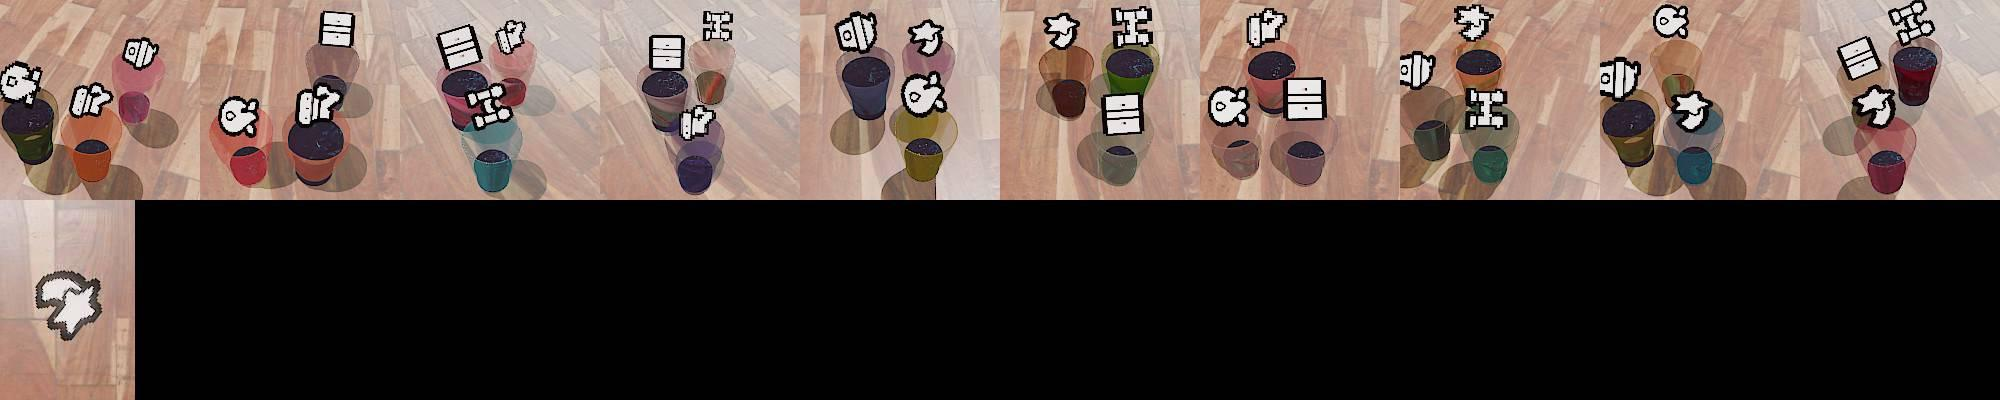icon: (33, 270, 103, 341), (462, 79, 514, 129), (436, 22, 483, 71), (899, 70, 948, 117), (1463, 85, 1511, 130), (295, 82, 343, 126), (1101, 92, 1148, 136), (1597, 56, 1643, 101), (1837, 36, 1880, 83), (1852, 85, 1898, 129), (1668, 89, 1714, 132), (1888, 1, 1935, 43), (217, 94, 261, 138), (1284, 75, 1327, 121), (834, 11, 878, 55), (1244, 6, 1287, 50), (0, 61, 43, 104), (1110, 5, 1153, 47), (1207, 84, 1249, 127), (69, 80, 115, 118), (1398, 48, 1437, 90), (1453, 3, 1495, 42), (907, 19, 946, 59), (679, 102, 717, 141), (1042, 11, 1079, 52), (1652, 3, 1690, 39), (648, 33, 684, 71), (319, 10, 355, 48), (121, 37, 159, 71), (495, 19, 528, 56), (702, 9, 735, 43)
